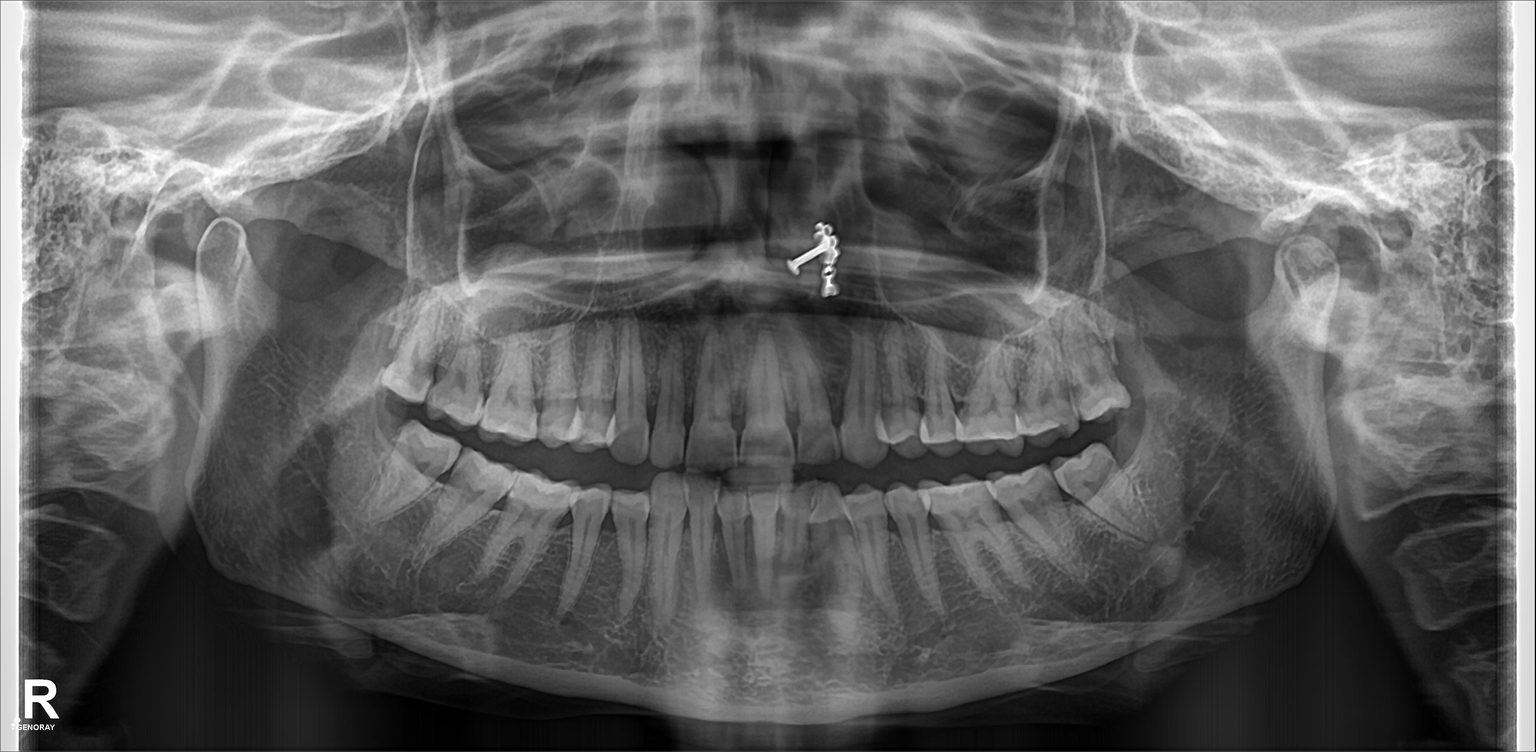Impacted Third Molar: (1063, 452, 1150, 545)
